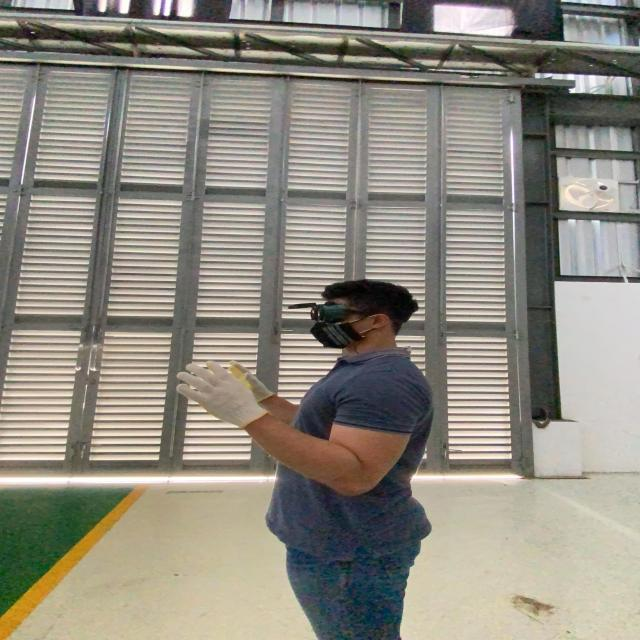glasses: (280, 296, 376, 322)
